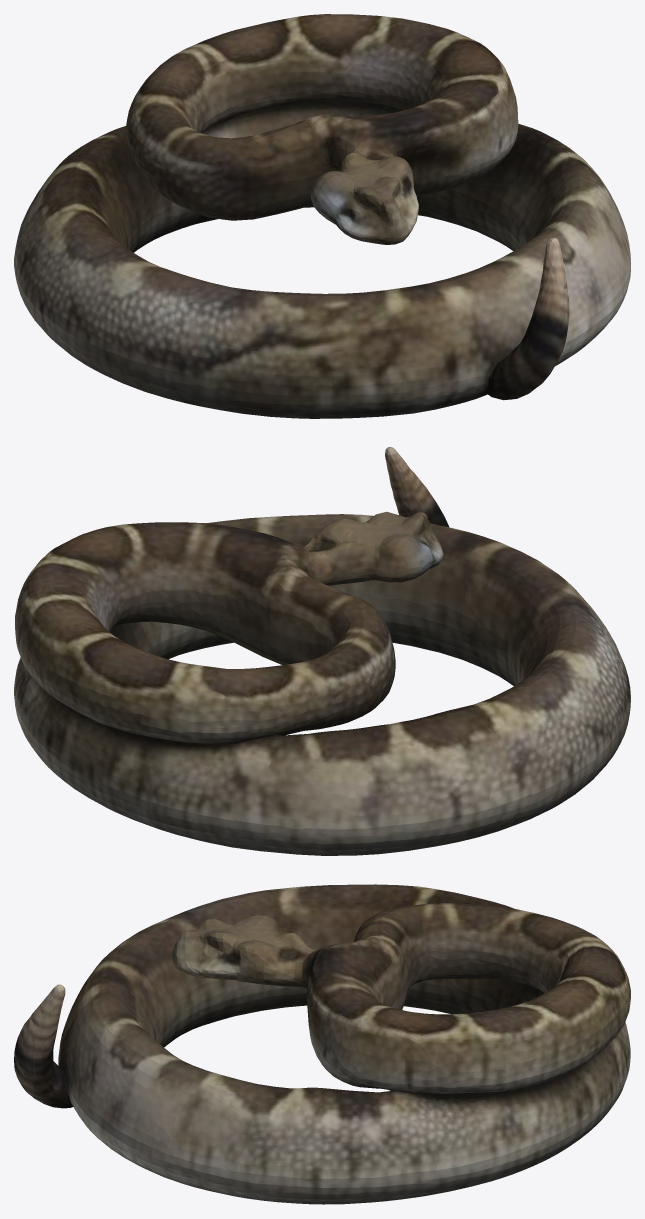
File: serpent.glb
3 views of the same model, one above another, from view 1: azimuth 30°, elevation 25°; view 2: azimuth 150°, elevation 25°; view 3: azimuth 270°, elevation 25° (orthographic). The views are drawn at different scales.
Parts seen in each view (by area): view 1: world; view 2: world; view 3: world.
Part boxes in pixels (x1,y1,x2,y2): world: (14,14,630,418); world: (14,447,630,855); world: (14,884,630,1204).
Size of the model in its own units: 0.9493 by 0.3056 by 0.998.
1 material, 1 textured.
